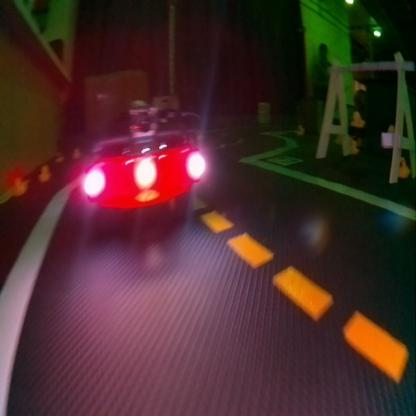Duckie: (398, 156, 409, 178), (14, 177, 26, 195), (352, 111, 363, 125), (39, 165, 49, 180), (55, 151, 64, 161)
Duckiebot: (84, 108, 201, 211)
